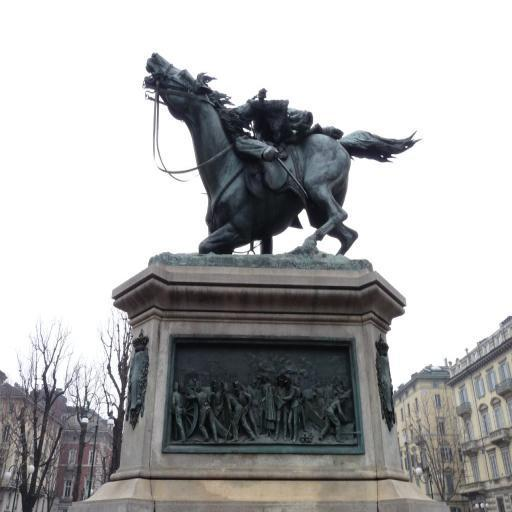horse: (144, 52, 419, 256)
